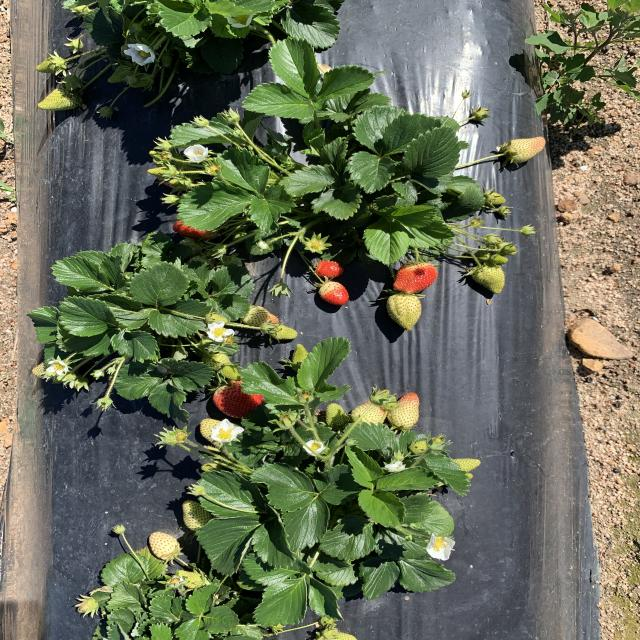unripe: (202, 374, 272, 420), (164, 210, 225, 240), (393, 262, 437, 295), (320, 281, 353, 306), (313, 258, 346, 277)
